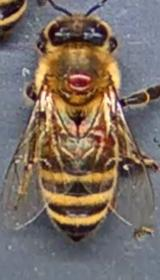varroa_mite: (61, 64, 95, 96)
